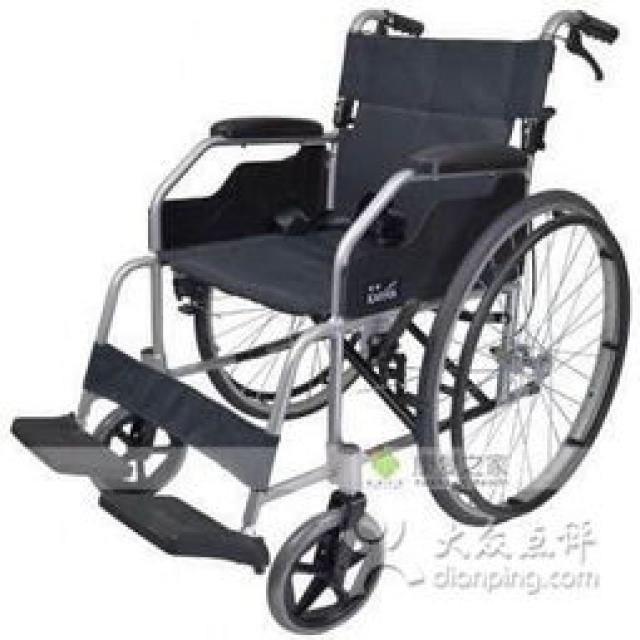wheelchair: (0, 7, 633, 638)
